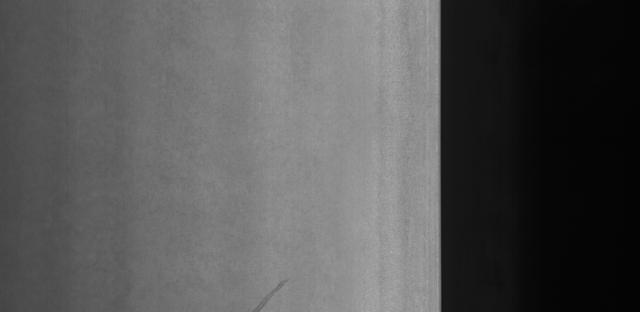water_spot: (250, 267, 298, 312)
